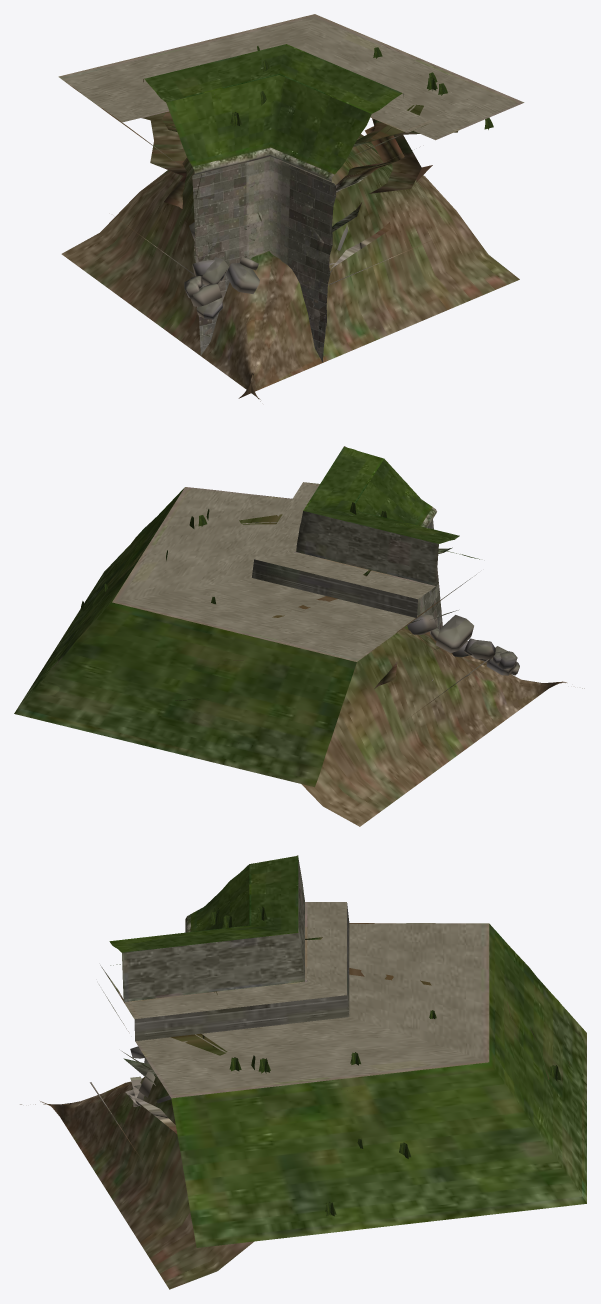
Rendered from starfort_flank_junction_a75_hero.glb.
The picture shows the model from 3 angles, top to bottom: view 1: azimuth 30°, elevation 25°; view 2: azimuth 150°, elevation 25°; view 3: azimuth 270°, elevation 25°; orthographic projection. The views are drawn at different scales.
Visible parts, largest first — view 1: breached, intact, cracked; view 2: intact, breached, cracked; view 3: intact, cracked, breached.
Boxes of the visible parts, left/top/right/bottom form: breached: left=61, top=60, right=524, bottom=401; intact: left=59, top=14, right=513, bottom=356; cracked: left=59, top=14, right=508, bottom=351; intact: left=14, top=447, right=444, bottom=787; breached: left=92, top=447, right=584, bottom=826; cracked: left=32, top=456, right=479, bottom=785; intact: left=112, top=855, right=586, bottom=1247; cracked: left=109, top=856, right=586, bottom=1241; breached: left=20, top=860, right=586, bottom=1289.
Size of what is drawn, in the model's own units: 11.88 by 6.41 by 12.3.
2 materials, 2 textured.
